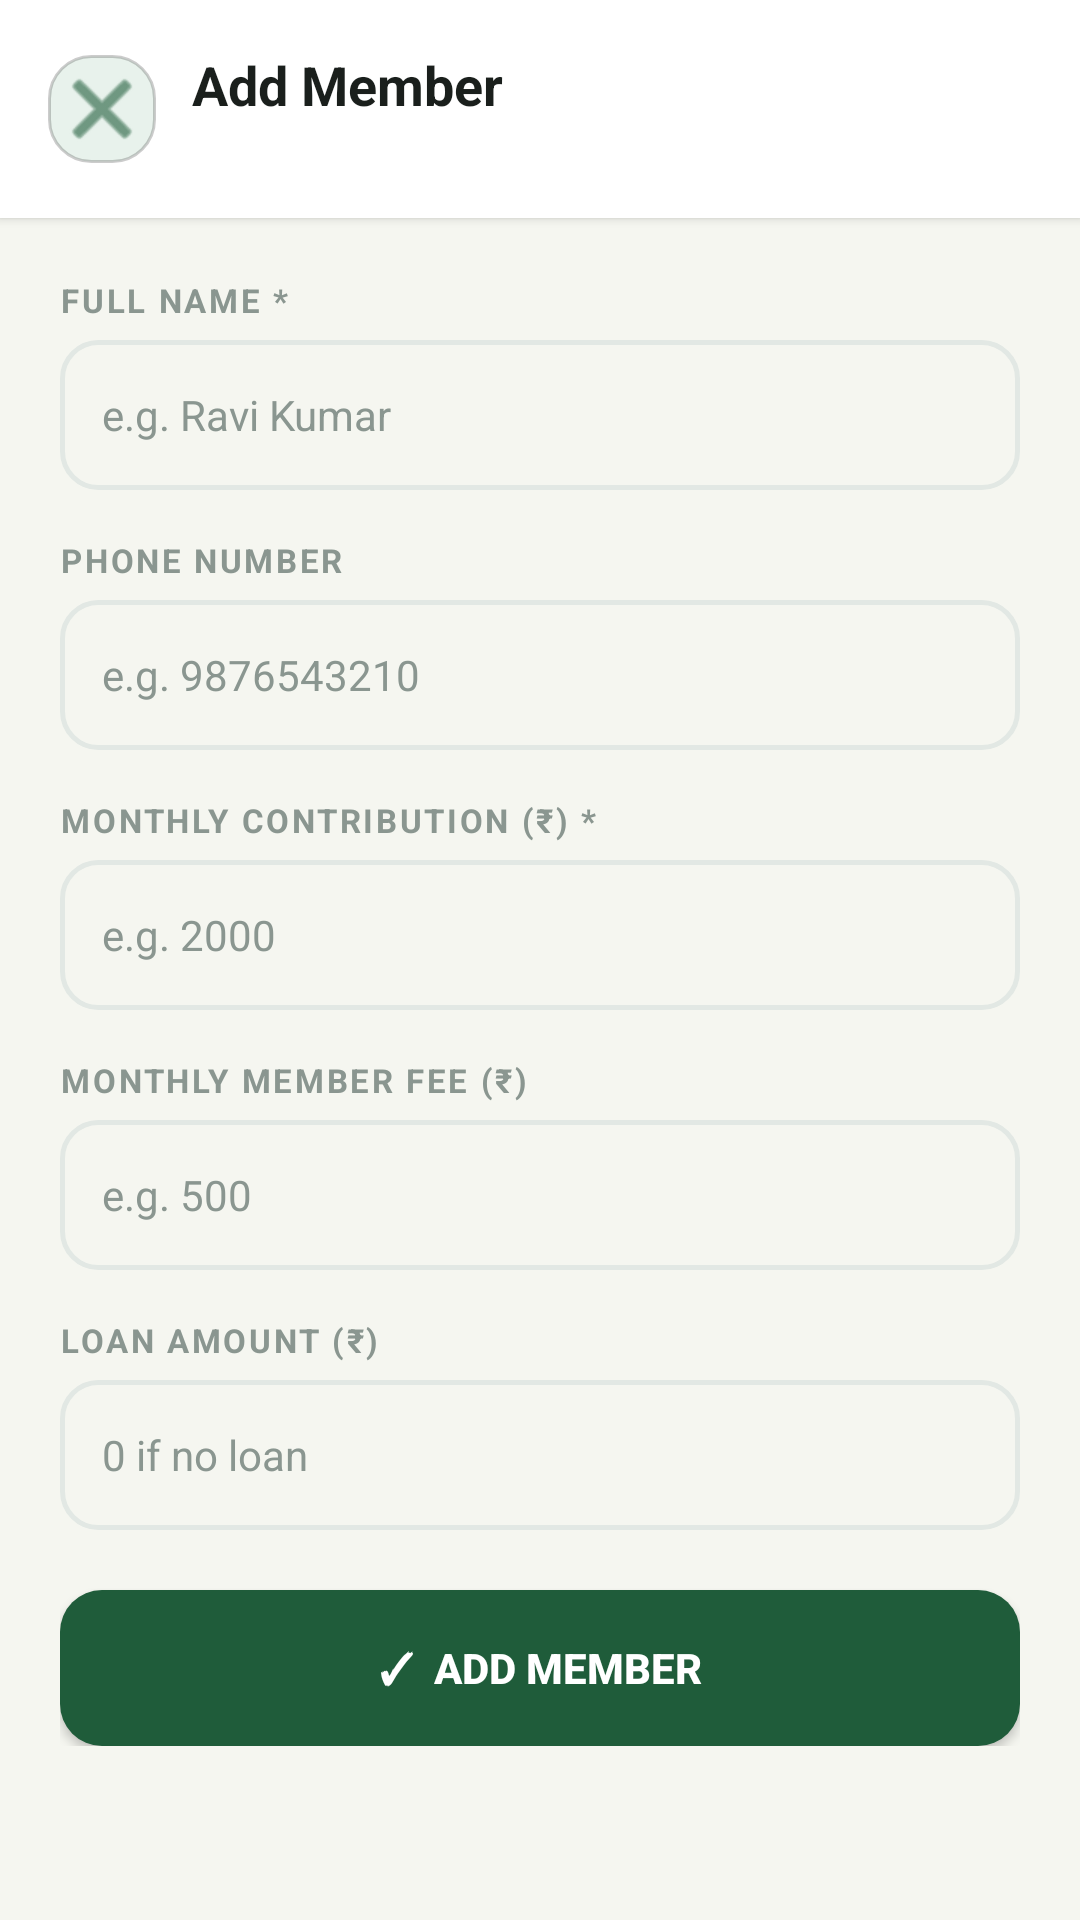

Icons on this 1080w x 1920h Android screen, each with its box as {"x1": x1, "y1": y1, "x2": x2, "y2": y2}:
Close: {"x1": 48, "y1": 55, "x2": 156, "y2": 163}
